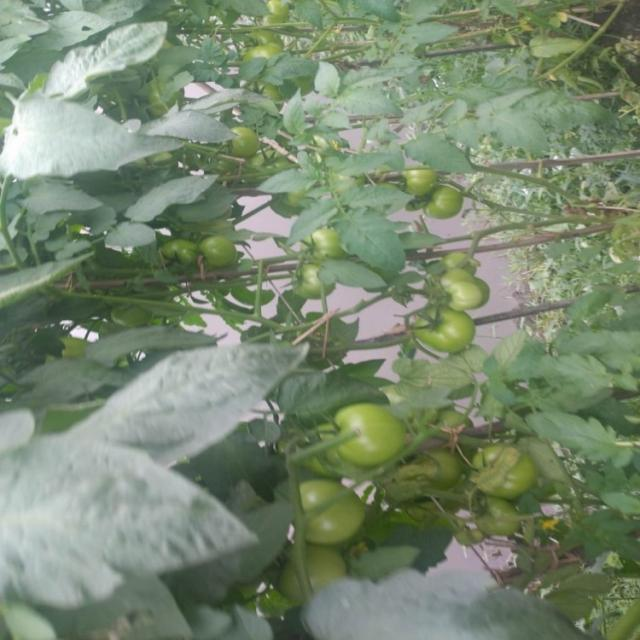tomato: (281, 476, 376, 555), (324, 404, 415, 479), (281, 544, 363, 625), (469, 438, 548, 504), (408, 302, 485, 358), (431, 271, 493, 316), (469, 493, 524, 542), (189, 230, 245, 277), (426, 249, 502, 283), (227, 128, 274, 181), (302, 225, 358, 265), (421, 176, 469, 221), (281, 265, 330, 309), (409, 446, 460, 486), (242, 27, 297, 62), (247, 147, 291, 190), (399, 167, 443, 207), (161, 230, 197, 270)
